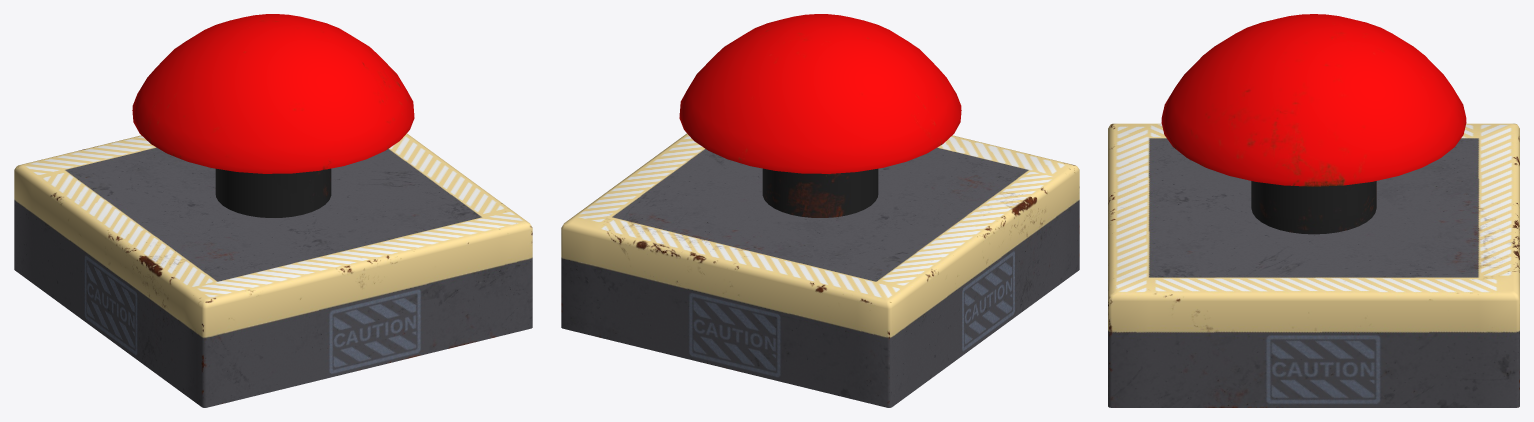
Rendered from red_button.glb.
3 views of the same model, side by side, from view 1: azimuth 30°, elevation 25°; view 2: azimuth 150°, elevation 25°; view 3: azimuth 270°, elevation 25° (orthographic). The views are drawn at different scales.
Parts seen in each view (by area): view 1: Cube; view 2: Cube; view 3: Cube.
Part boxes in pixels (left/top/right/bottom): Cube: left=14, top=14, right=532, bottom=407; Cube: left=561, top=14, right=1079, bottom=407; Cube: left=1108, top=14, right=1519, bottom=407.
Size of the model in its own units: 0.4595 by 0.3585 by 0.4595.
Materials: 1 (1 with a texture image).
